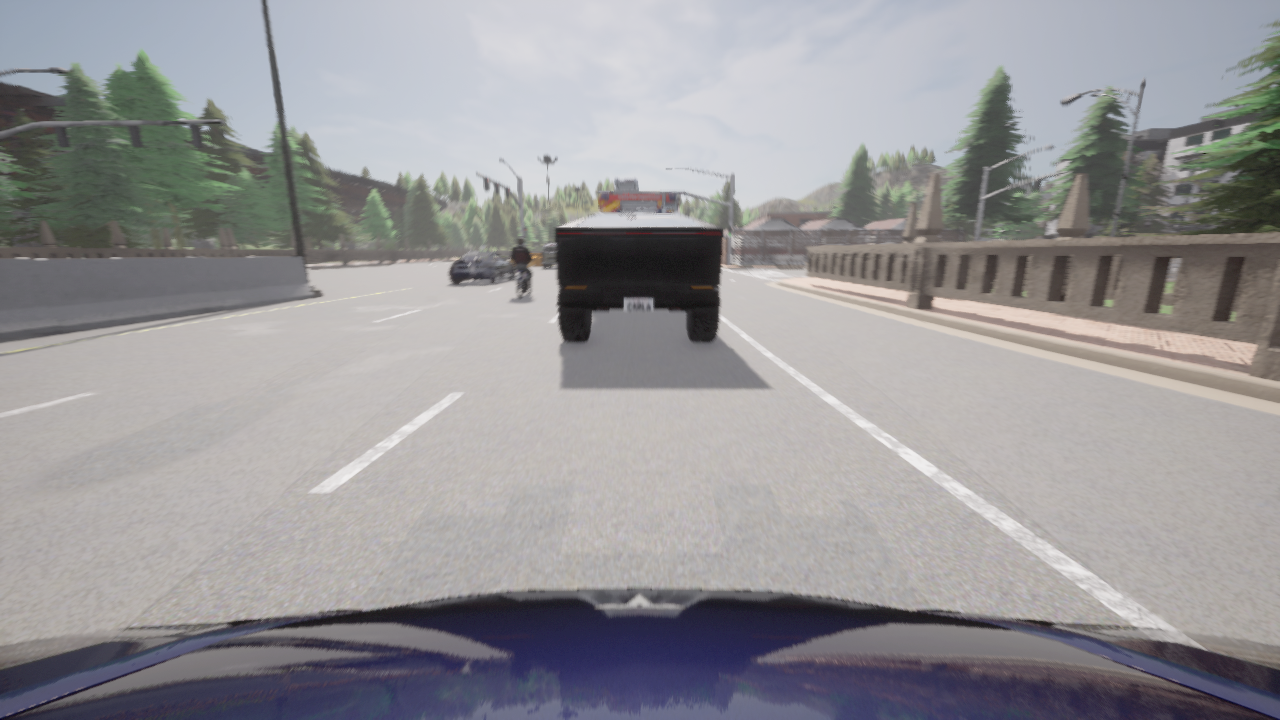cyclist: (0, 588, 1279, 719), (555, 213, 723, 341), (599, 179, 679, 212), (450, 252, 515, 283), (517, 271, 530, 298), (542, 243, 556, 267)
pedestrian: (1169, 256, 1180, 277)
